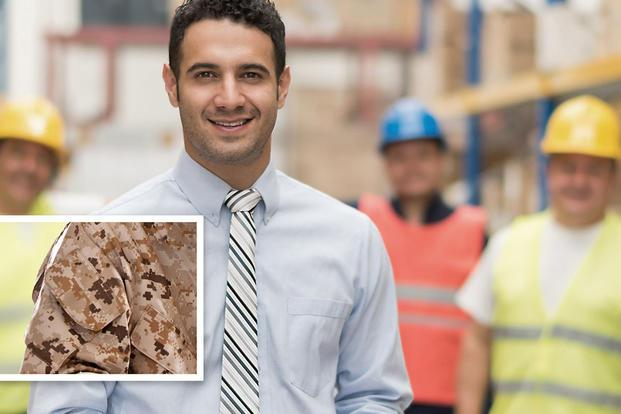helmet: (540, 95, 621, 163), (1, 95, 73, 168), (376, 99, 449, 153)
